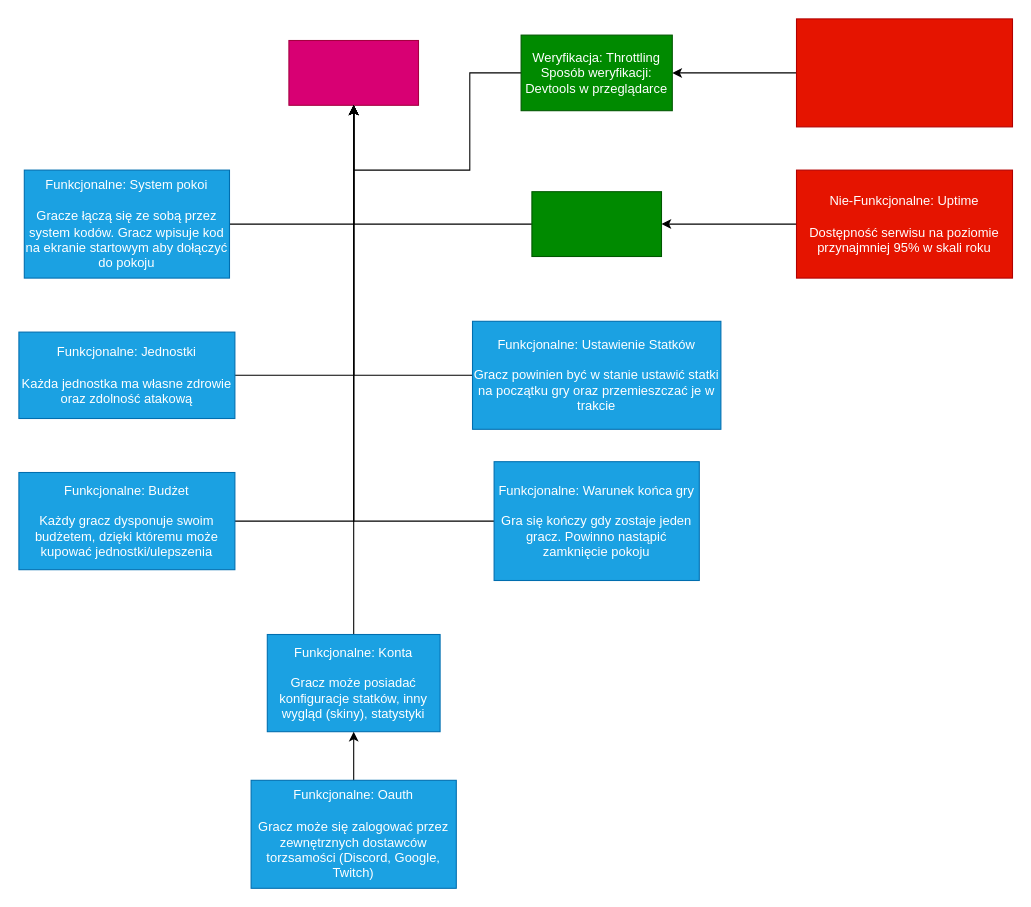
This 1031x907 diagram has some shape labels left out. Each missing label, with the centre of its shape:
"Clash Of Marines" belongs at (353,72).
"Metryka: Dostępność Jednostka: % w skali roku Cel: ≥95%" belongs at (596,223).
"Nie-Funkcjonalne: Wydajność Brak zauważalnego spadku wydajności na urządzeniach" belongs at (904,72).
